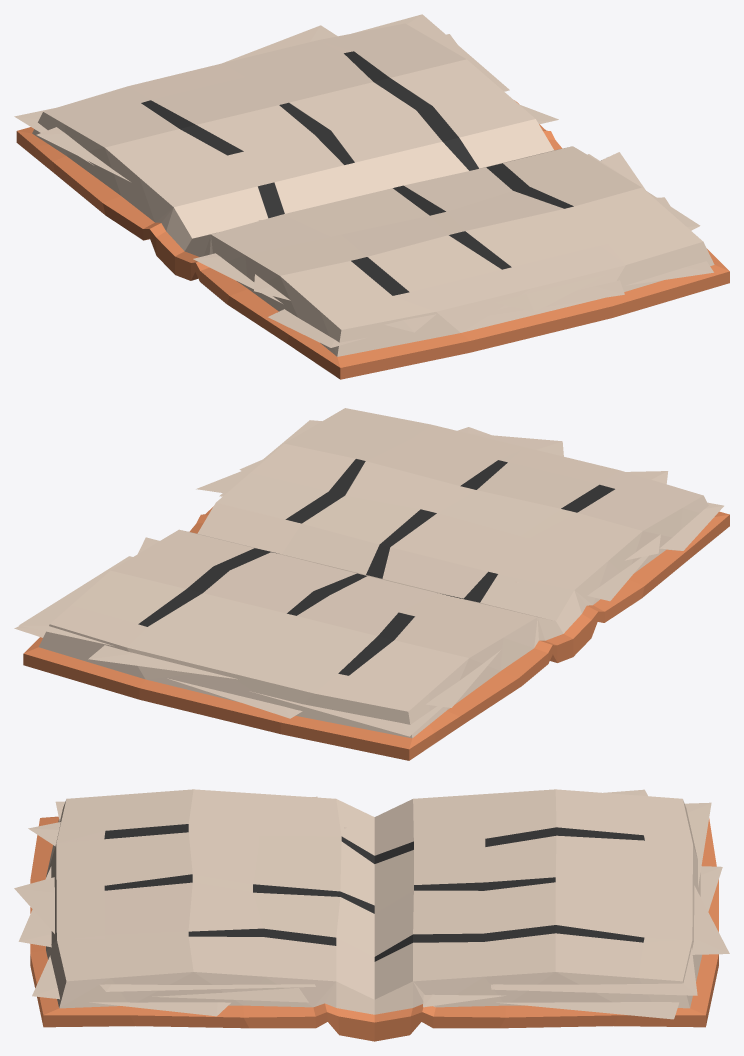
Rendered from Book02_Open.fbx.
3 renders of one model, top to bottom at view 1: azimuth 30°, elevation 25°; view 2: azimuth 150°, elevation 25°; view 3: azimuth 270°, elevation 25°, orthographic. The views are drawn at different scales.
Visible parts, largest first — view 1: Book02_Open; view 2: Book02_Open; view 3: Book02_Open.
Boxes of the visible parts, x1,y1,x2,y2 form: Book02_Open: [14, 14, 729, 379]; Book02_Open: [14, 408, 729, 760]; Book02_Open: [14, 789, 729, 1041].
Size of the model in its own units: 1.03 by 0.142 by 1.44.
